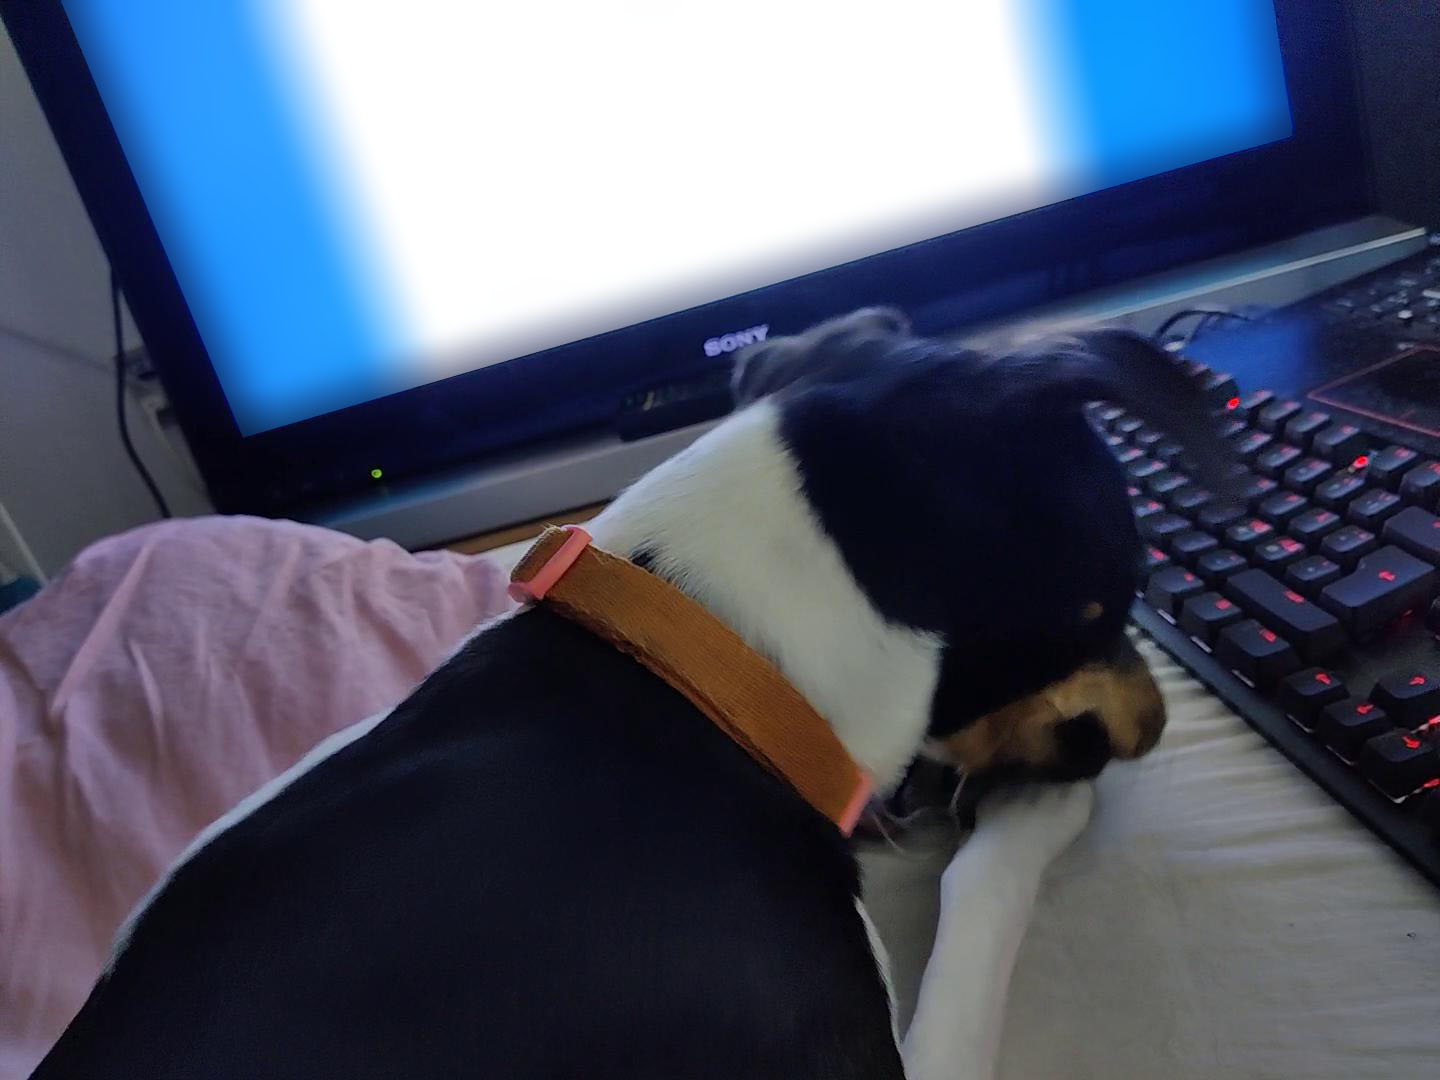Dog: (26, 299, 1253, 1079)
